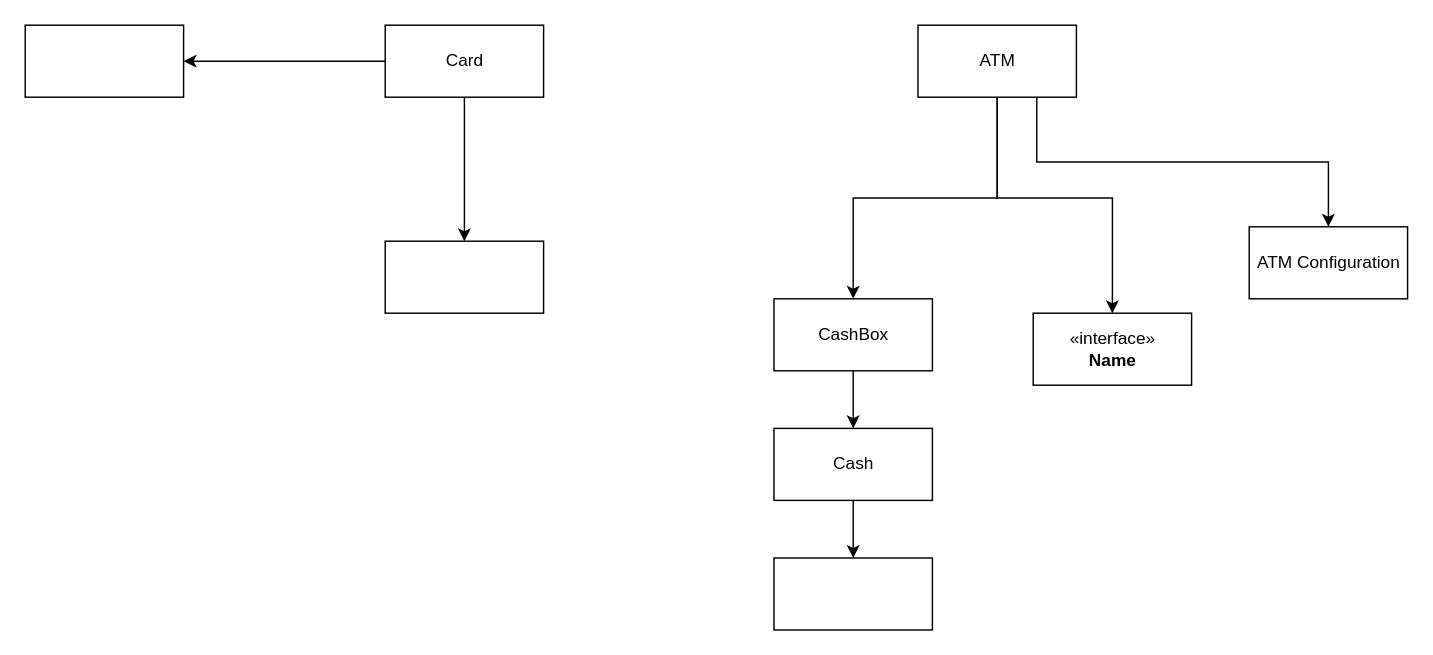
The diagram is 1433 pixels wide and 655 high, and some of its shapes have lost their labels. The box of each missing label's shape, as (x1, y1, x2, y2) in pixels:
Balance: (384, 240, 544, 313)
Client: (24, 24, 184, 97)
«interface» Currency: (773, 557, 932, 630)
